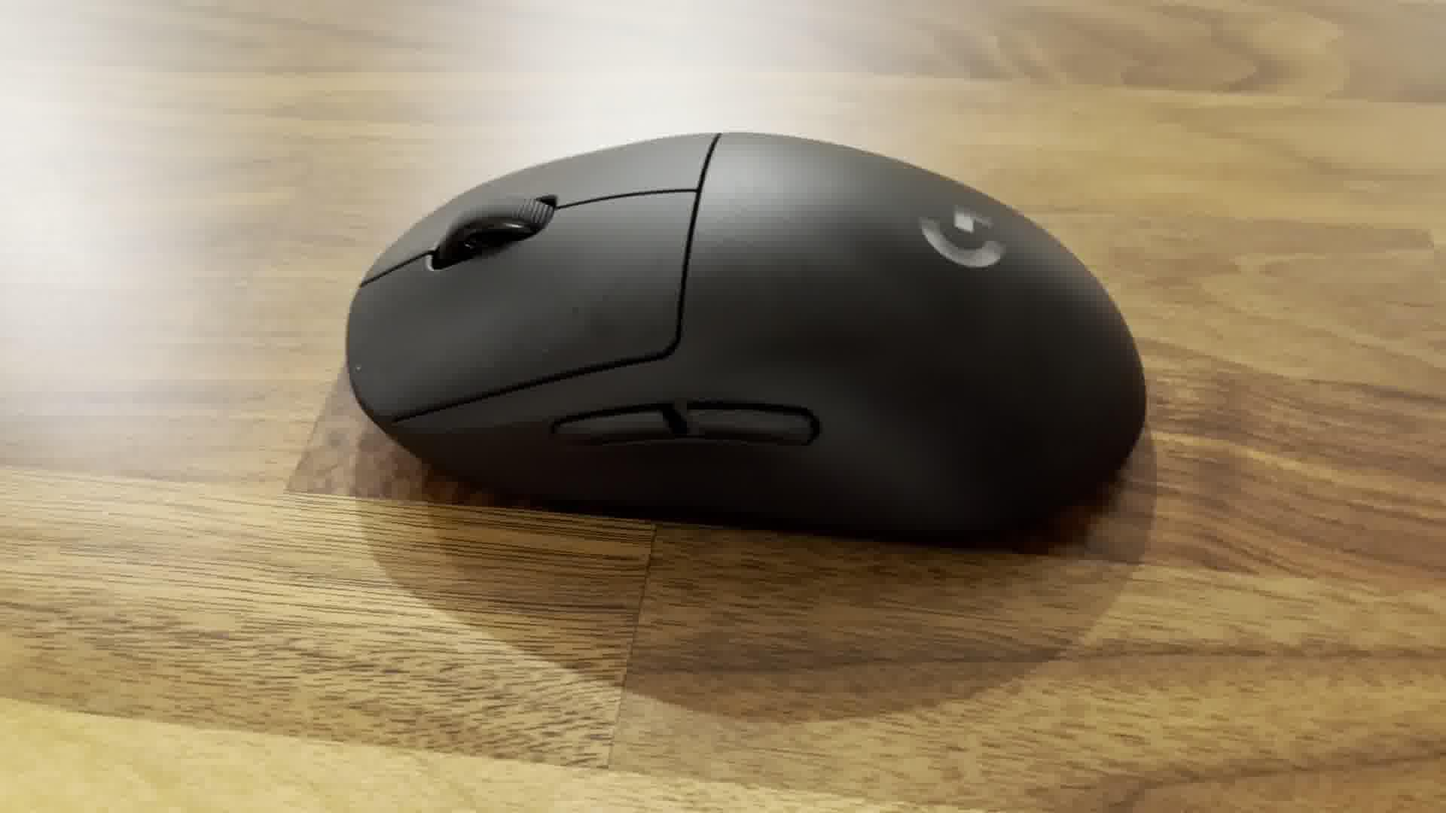logicool: (339, 126, 1151, 556)
